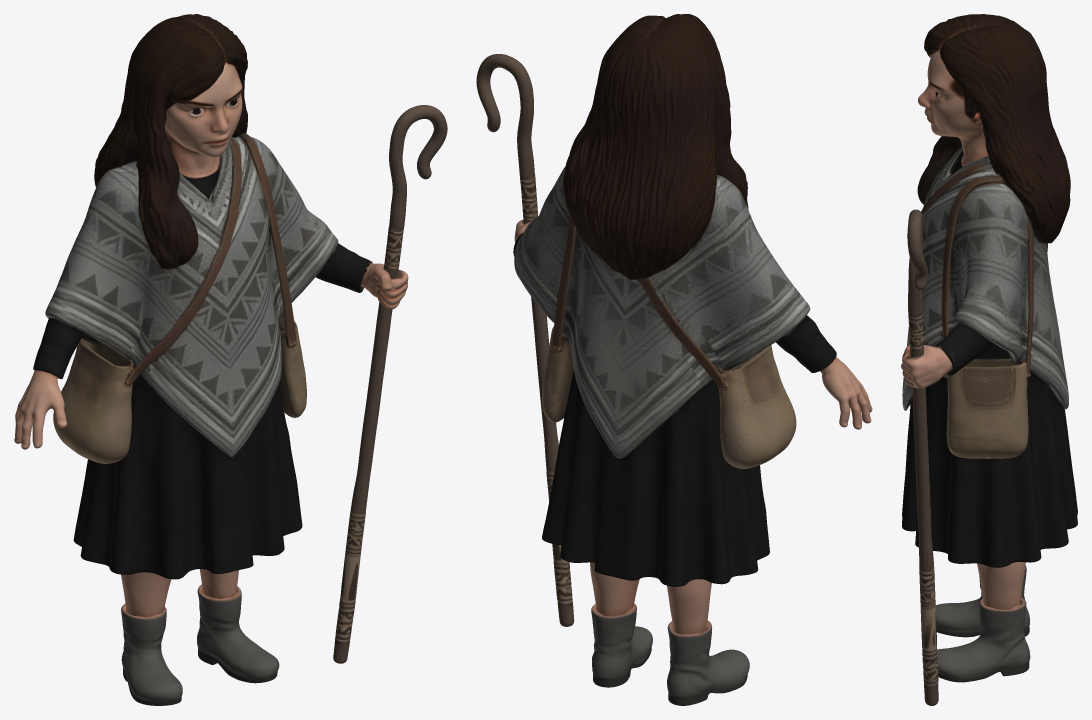
Rendered from 8-la-niña-y-el-viento-optimized.glb.
3 renders of one model, left to right at view 1: azimuth 30°, elevation 25°; view 2: azimuth 150°, elevation 25°; view 3: azimuth 270°, elevation 25°, orthographic. The views are drawn at different scales.
Visible parts, largest first — view 1: tripo_node_f77ade87-8301-4c32-af48-85637ec01ac6; view 2: tripo_node_f77ade87-8301-4c32-af48-85637ec01ac6; view 3: tripo_node_f77ade87-8301-4c32-af48-85637ec01ac6.
Part boxes in pixels (left/top/right/bottom): tripo_node_f77ade87-8301-4c32-af48-85637ec01ac6: left=14, top=14, right=447, bottom=705; tripo_node_f77ade87-8301-4c32-af48-85637ec01ac6: left=476, top=14, right=872, bottom=705; tripo_node_f77ade87-8301-4c32-af48-85637ec01ac6: left=901, top=14, right=1077, bottom=705.
Size of the model in its own units: 0.6527 by 1 by 0.2542.
Materials: 1 (1 with a texture image).
